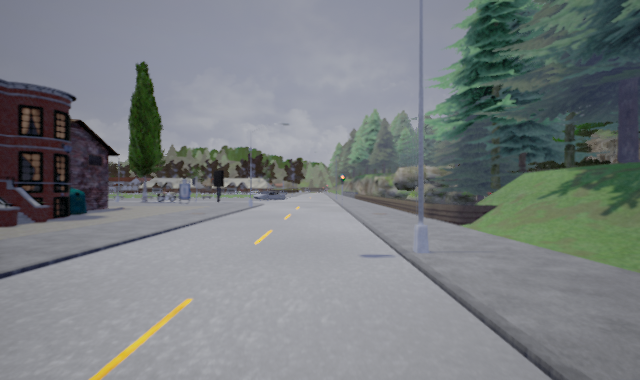vehicle: (254, 191, 285, 201)
